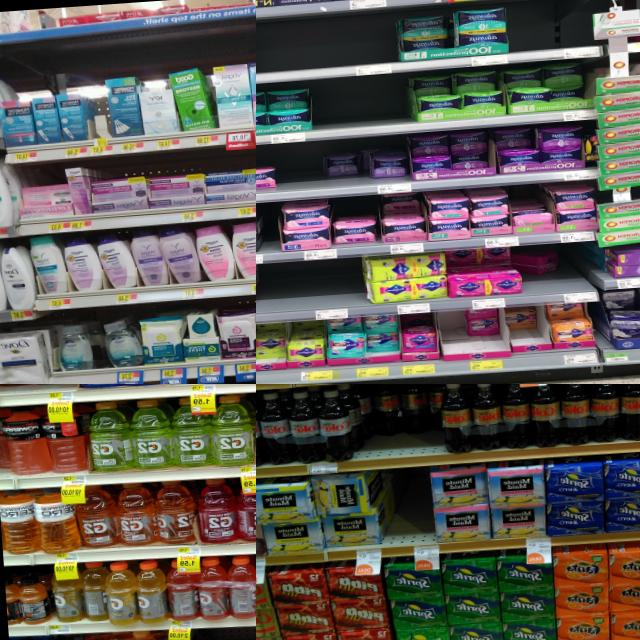100% O.O.S: (256, 14, 397, 83), (262, 257, 362, 323), (312, 76, 408, 139), (506, 0, 591, 61), (397, 468, 432, 556), (273, 141, 324, 200)
